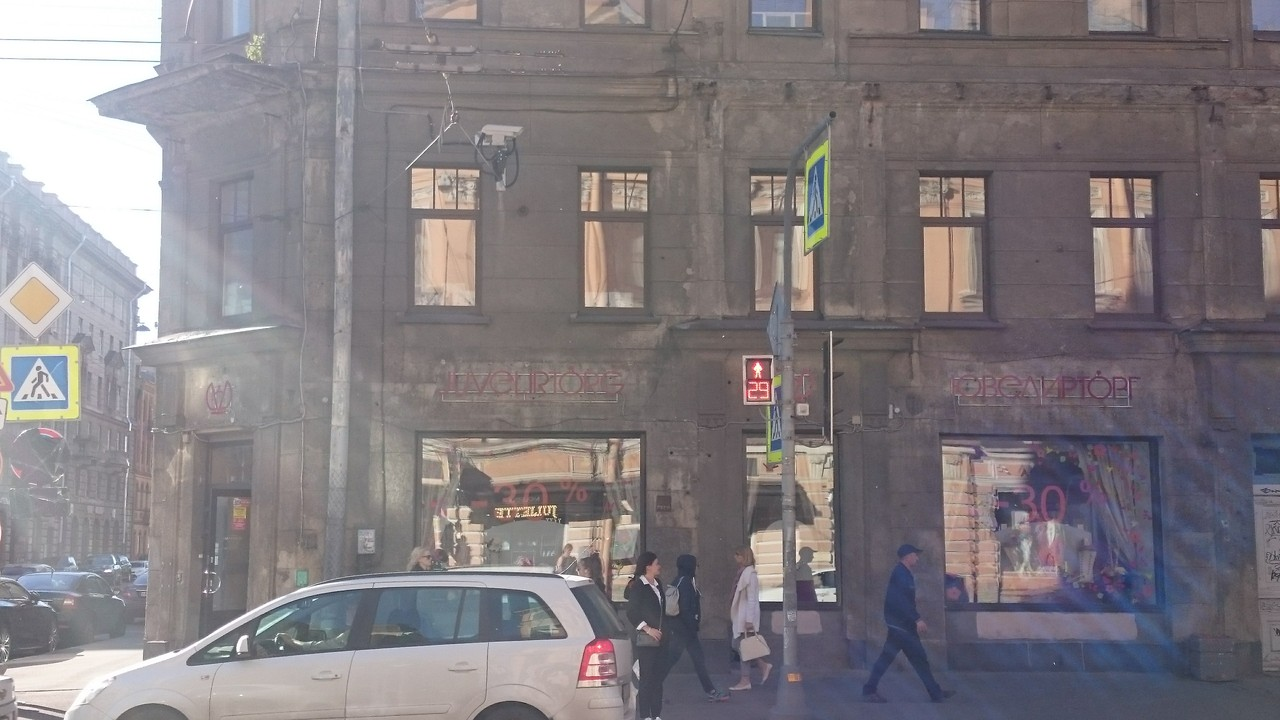signboard: (438, 360, 625, 402), (949, 370, 1140, 404)
window: (939, 435, 1166, 610), (412, 430, 642, 591), (406, 163, 480, 311), (1087, 176, 1157, 321), (583, 167, 650, 309), (752, 173, 817, 315), (924, 177, 987, 317), (222, 177, 257, 316)
